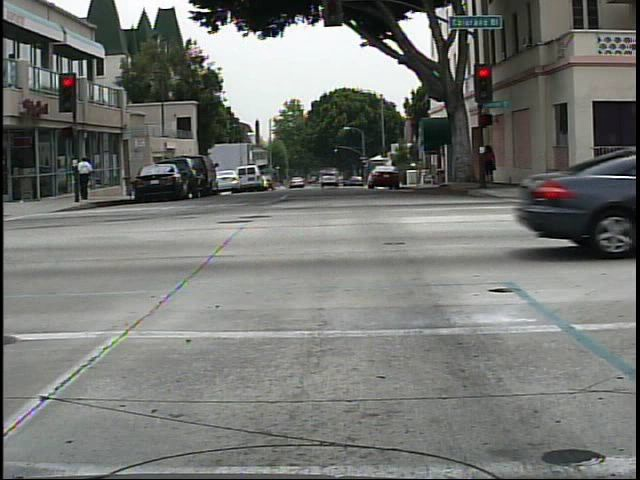person: (475, 138, 505, 193), (80, 148, 98, 201)
